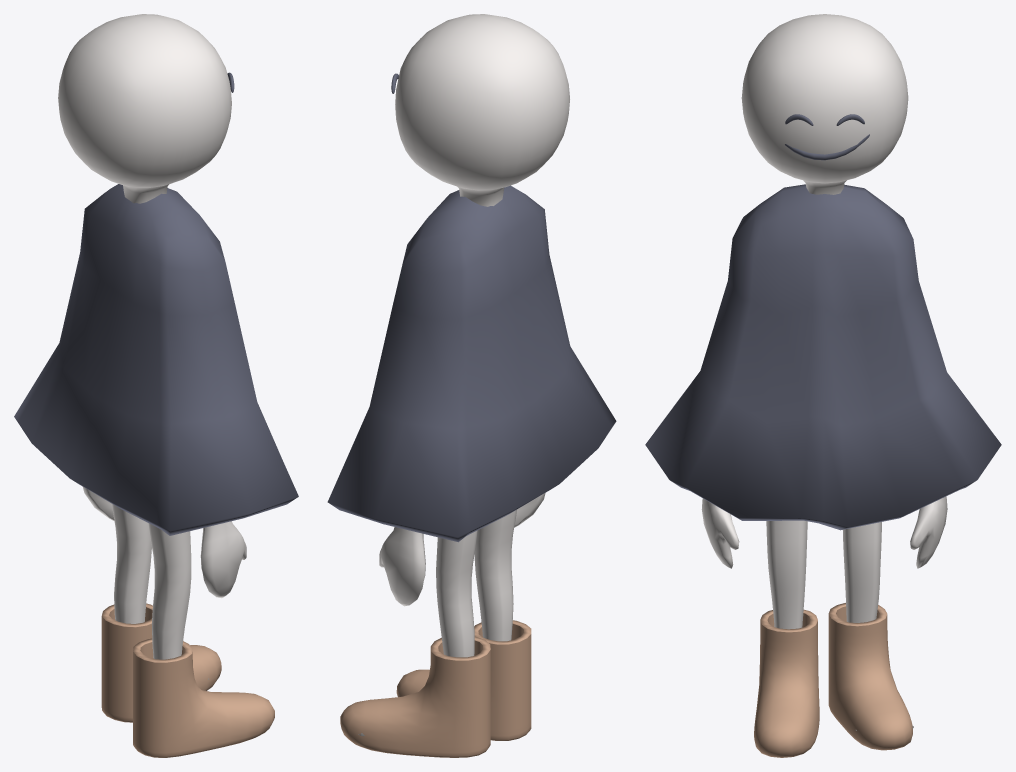
Rendered from ReligiousManiac.fbx.
3 renders of one model, left to right at view 1: azimuth 30°, elevation 25°; view 2: azimuth 150°, elevation 25°; view 3: azimuth 270°, elevation 25°, orthographic. The views are drawn at different scales.
Visible parts, largest first — view 1: body.001, head, Cube.001, body, Cube, arm1; view 2: body.001, head, Cube, body, Cube.001, arm1; view 3: body.001, head, Cube, Cube.001, body, arm1.
Part boxes in pixels (x1,y1,x2,y2): body.001: [14, 184, 298, 535]; head: [58, 14, 231, 203]; Cube.001: [133, 638, 274, 757]; body: [112, 504, 208, 679]; Cube: [101, 603, 221, 722]; arm1: [83, 487, 246, 598]; body.001: [327, 185, 616, 542]; head: [395, 14, 569, 206]; Cube: [340, 636, 490, 757]; body: [358, 510, 516, 736]; Cube.001: [396, 620, 531, 740]; arm1: [379, 493, 545, 606]; body.001: [645, 184, 1001, 530]; head: [741, 14, 908, 194]; Cube: [828, 603, 912, 750]; Cube.001: [754, 609, 819, 757]; body: [766, 520, 913, 730]; arm1: [701, 496, 947, 568].
Bounding box in the file's own units: 276 × 1035 × 484.
